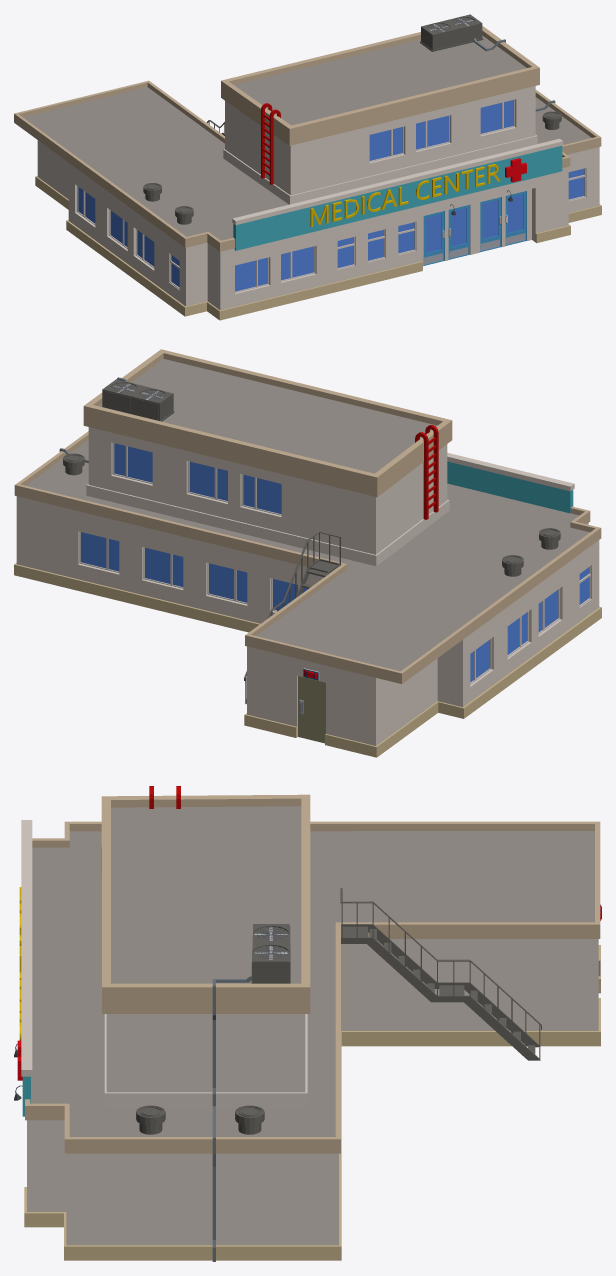
Rendered from MedicalCenter.gltf.
3 views of the same model, one above another, from view 1: azimuth 30°, elevation 25°; view 2: azimuth 150°, elevation 25°; view 3: azimuth 270°, elevation 25° (orthographic). The views are drawn at different scales.
Visible parts, largest first — view 1: MedicalCenter; view 2: MedicalCenter; view 3: MedicalCenter.
Boxes of the visible parts, left/top/right/bottom form: MedicalCenter: left=14, top=14, right=601, bottom=320; MedicalCenter: left=14, top=349, right=601, bottom=757; MedicalCenter: left=14, top=786, right=601, bottom=1261.
Bounding box in the file's own units: 19.21 × 7.13 × 14.95.
